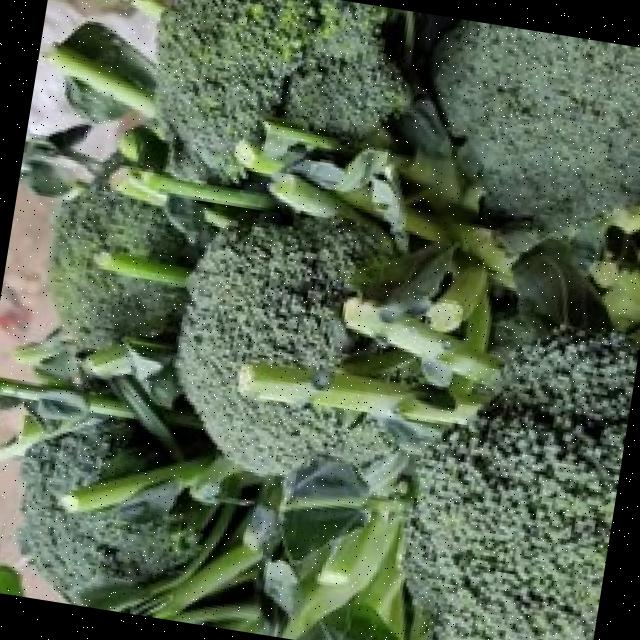Broccoli: (403, 331, 639, 640), (403, 332, 639, 640), (178, 217, 394, 474), (178, 216, 393, 474), (156, 0, 407, 181), (156, 0, 407, 181), (431, 19, 640, 229), (433, 19, 640, 228), (17, 422, 198, 604), (17, 422, 198, 604), (49, 176, 189, 350), (50, 175, 189, 350)
